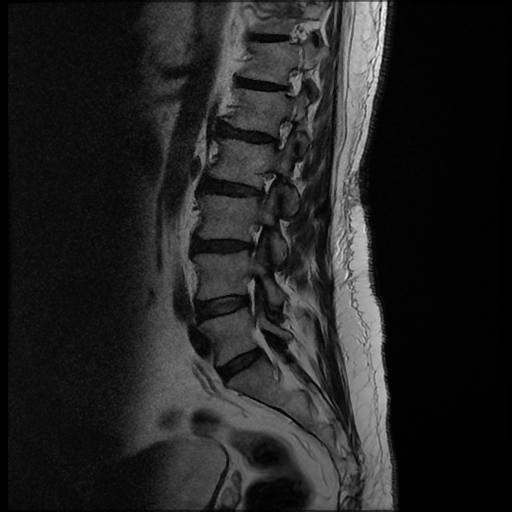LFS0: (247, 162, 284, 210), (265, 110, 299, 158), (239, 217, 272, 265)
